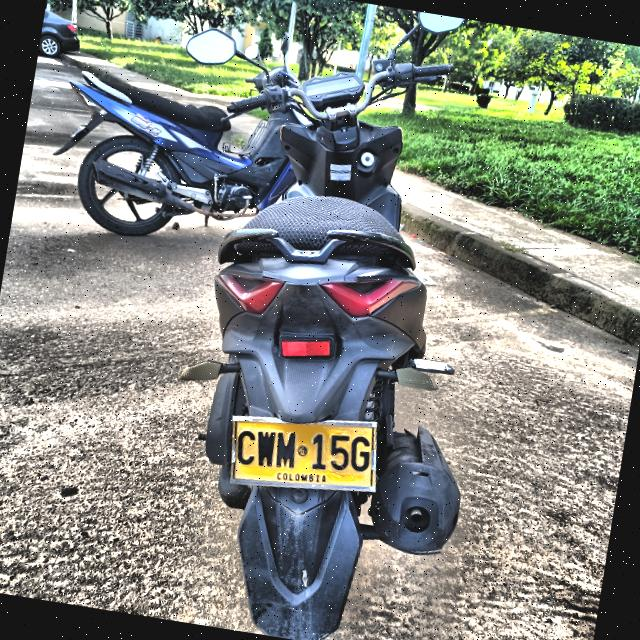plate: (235, 422, 372, 487)
